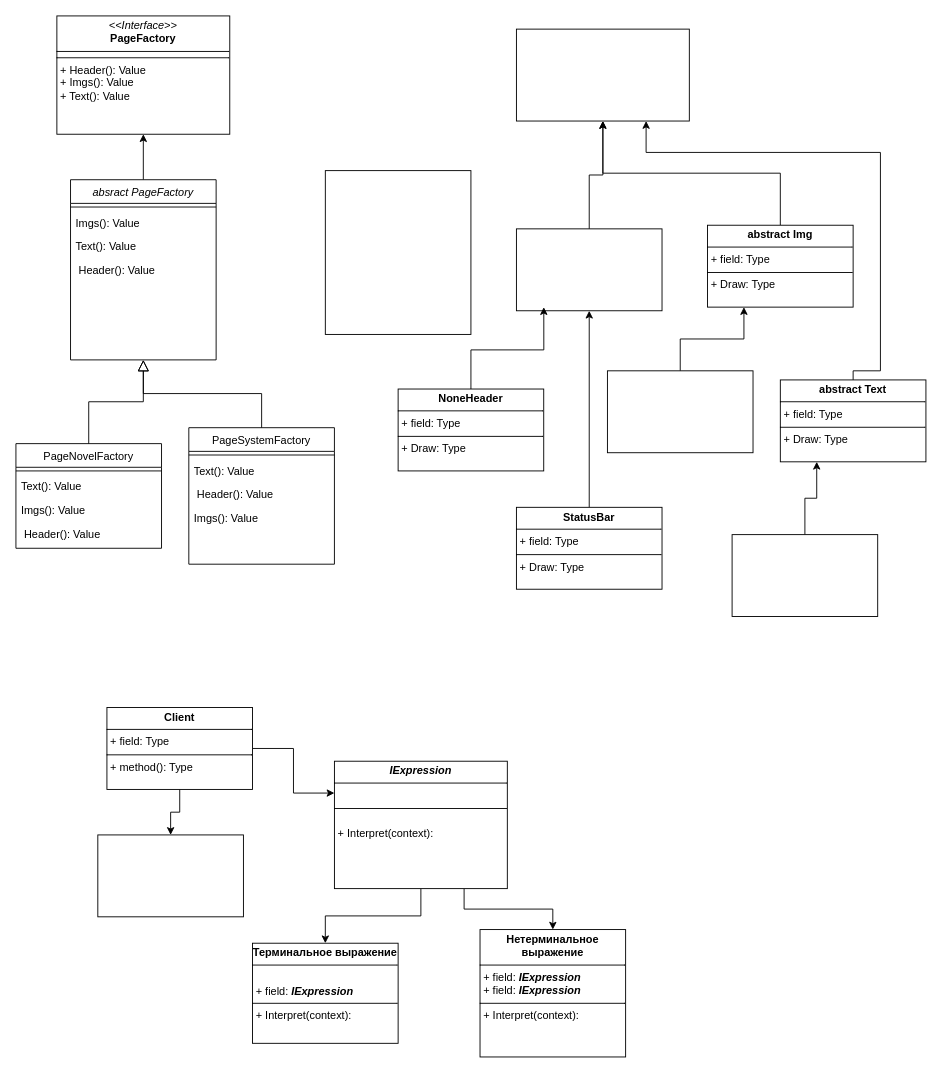
This 942x1073 diagram has some shape labels left out. Each missing label, with the centre of its shape:
"<<Interface>> Value + Markup: string + Draw(): string" goes at (x=602, y=74).
"abstract Header + field: Type + Draw: Type" goes at (x=589, y=269).
"BackgroundImg + field: Type + Draw: Type" goes at (x=680, y=411).
"BottomText + field: Type + Draw: Type" goes at (x=804, y=575).
"Context + field: Type + method(): Type" goes at (x=170, y=875).
"Page + Header: string + Imgs: string + Text: string + Draw(): Type" goes at (x=397, y=252).
